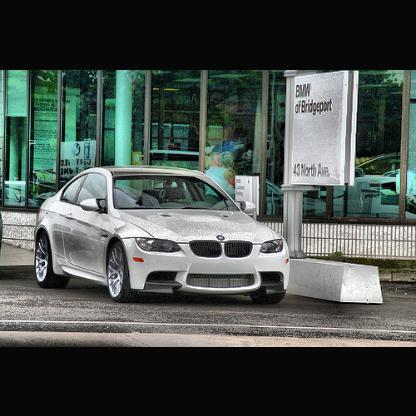BMW M3 Coupe 2012: (35, 164, 292, 306)
